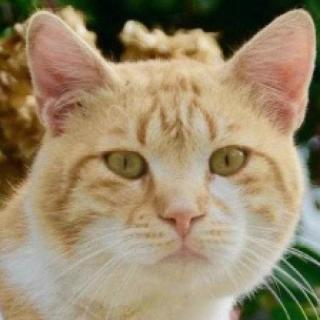cat: (21, 6, 320, 301)
nose: (154, 179, 208, 240)
